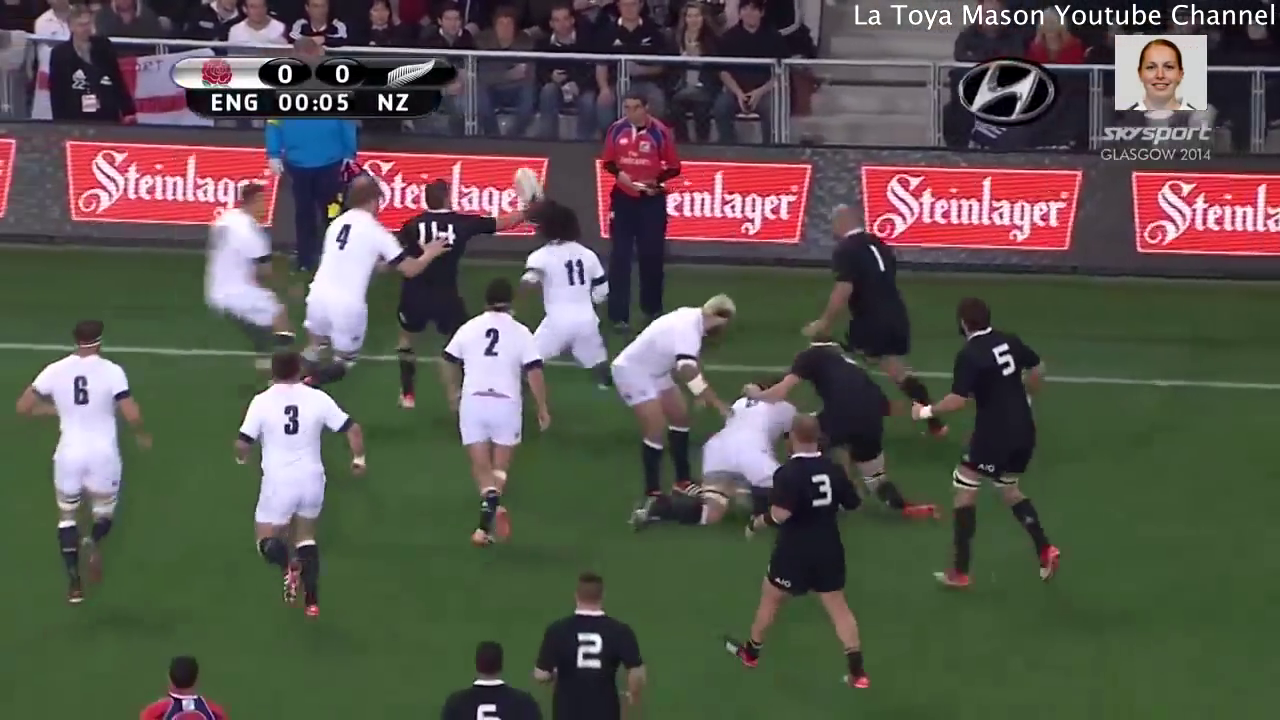ball: (506, 159, 551, 230)
player: (704, 407, 890, 695), (906, 284, 1075, 600), (217, 336, 385, 640), (9, 303, 161, 625), (736, 328, 953, 528), (794, 204, 956, 452), (425, 272, 554, 551), (611, 274, 738, 526), (385, 173, 517, 410), (287, 160, 423, 386), (510, 203, 645, 405), (629, 376, 793, 531), (522, 559, 662, 720), (597, 87, 677, 340), (195, 177, 291, 366), (428, 628, 542, 720), (116, 644, 247, 720)
